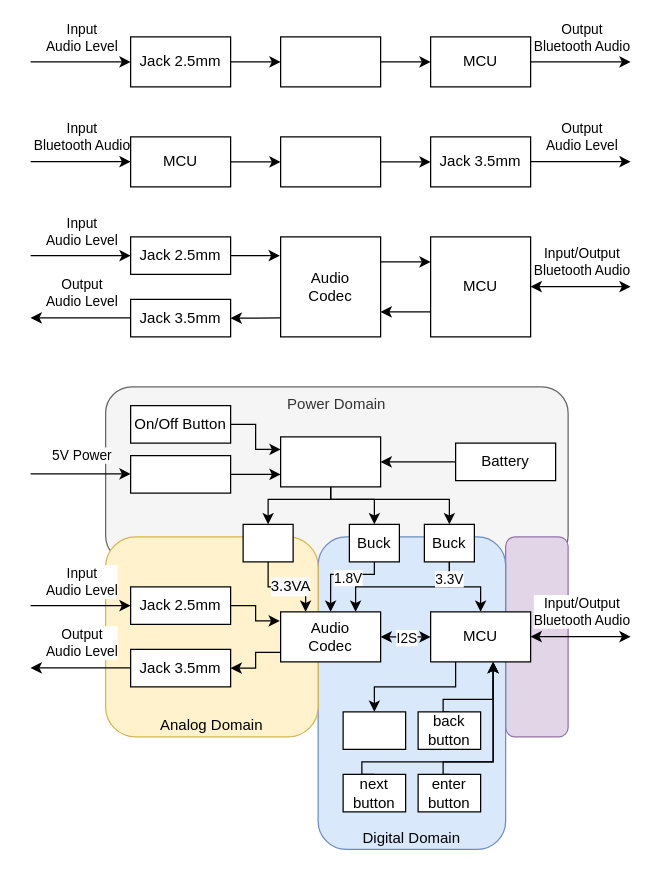
The diagram is 664 pixels wide and 871 high, and some of its shapes have lost their labels. Each missing label, with the centre of its shape:
Audio ADC: point 330,61
Audio DAC: point 330,161
LDO: point 267,542
PMIC: point 330,461
RF Domain: point 536,636
Screen: point 374,730
USB-C: point 180,473
